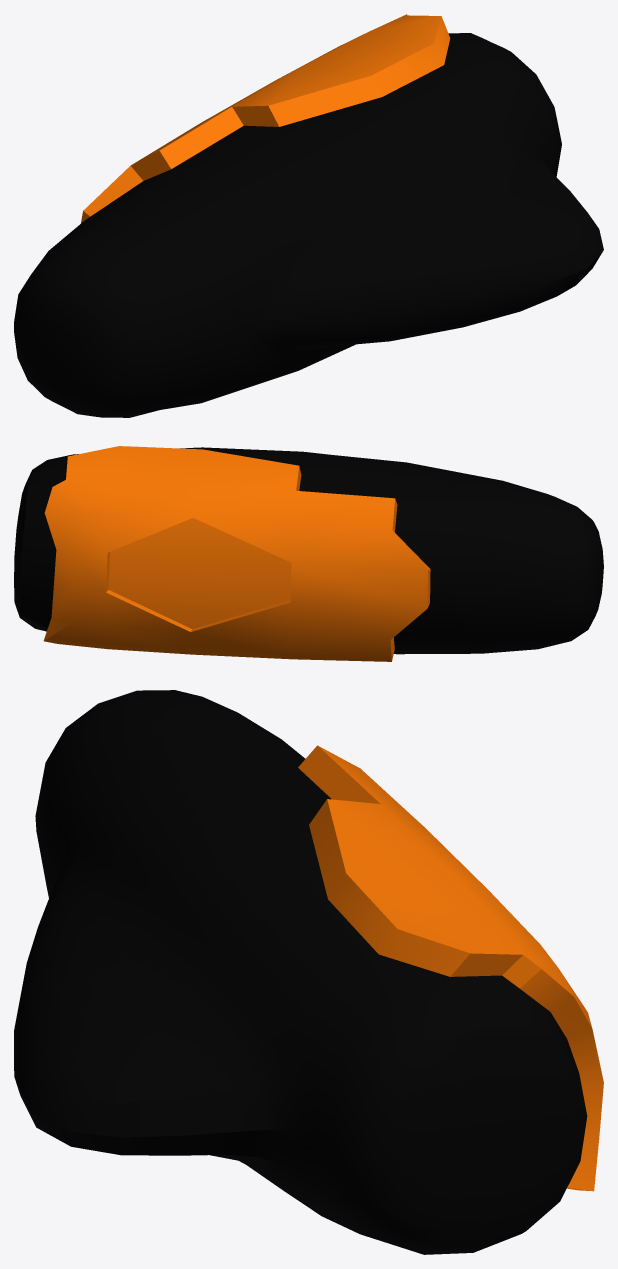
File: new_simHand_id53.fbx
The picture shows the model from 3 angles, top to bottom: view 1: azimuth 30°, elevation 25°; view 2: azimuth 150°, elevation 25°; view 3: azimuth 270°, elevation 25°; orthographic projection. The views are drawn at different scales.
Parts seen in each view (by area): view 1: Cube.003; view 2: Cube.003; view 3: Cube.003.
Part boxes in pixels (x1=…): Cube.003: x1=14, y1=14, x2=603, y2=417; Cube.003: x1=14, y1=446, x2=603, y2=661; Cube.003: x1=14, y1=690, x2=603, y2=1254.
Size of the model in its own units: 121 by 42 by 75.56.
